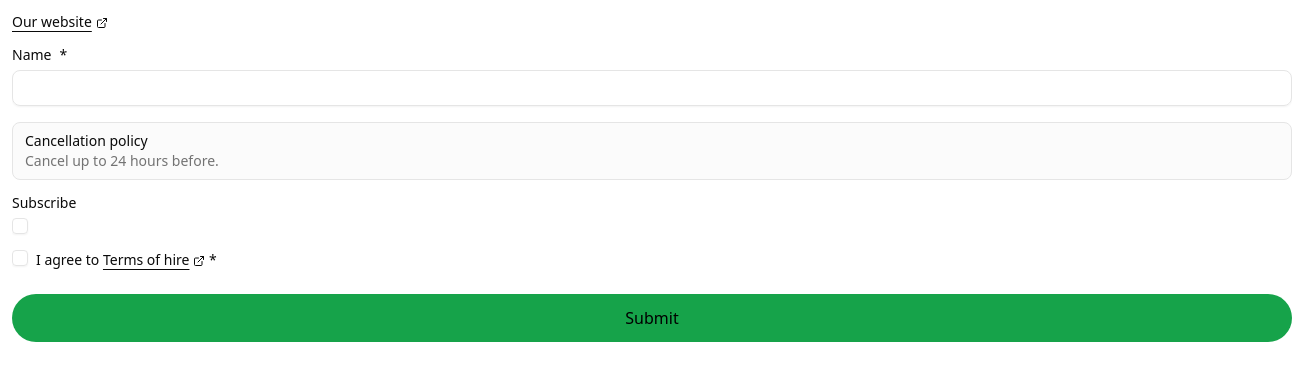
Scenario: PublicFormRenderer — notes and links for customers › will not send until the required agreement is ticked, and names it
Type "Ada Lovelace" into the field labelled "Name *" at (652, 88), box [12,70,1292,106]
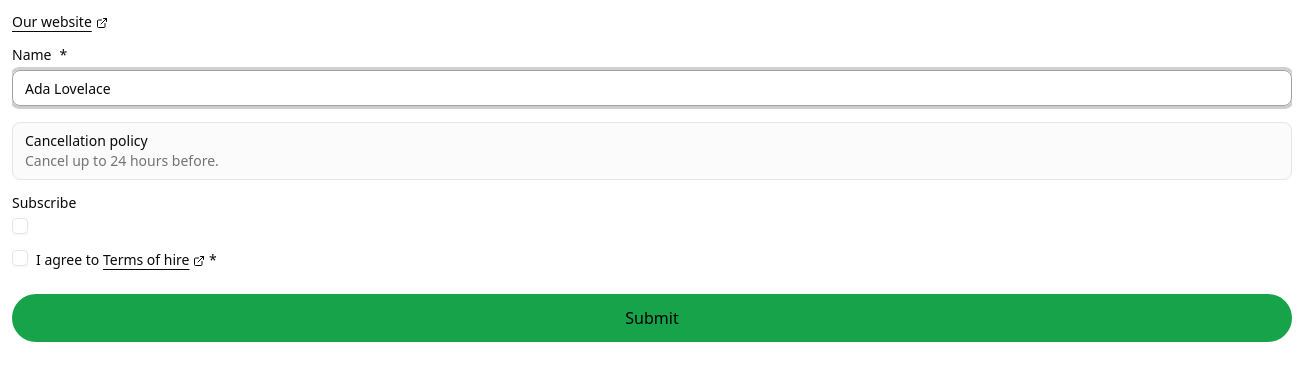
Click the button "Submit" at (652, 318), box [12,294,1292,342]
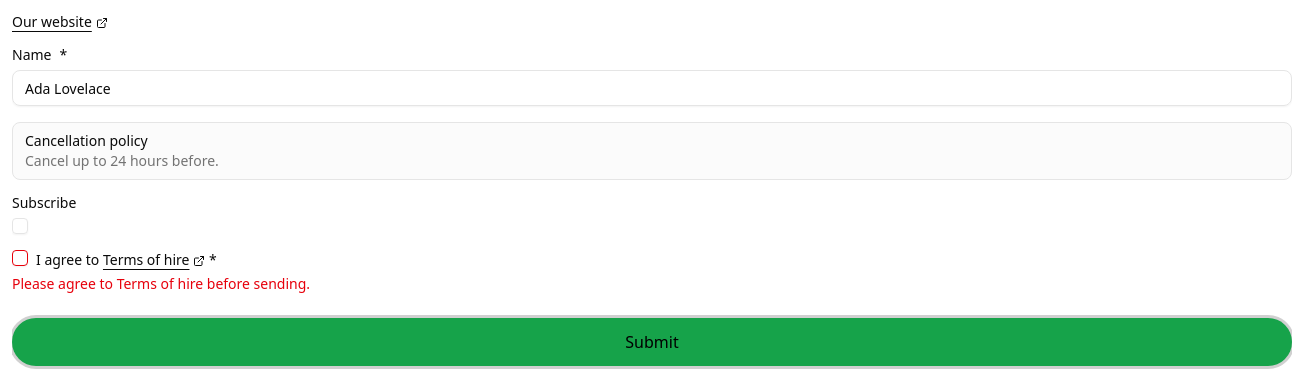
Result: the text "Please agree to Terms of hire before sending." is shown at [12,274,310,293]
